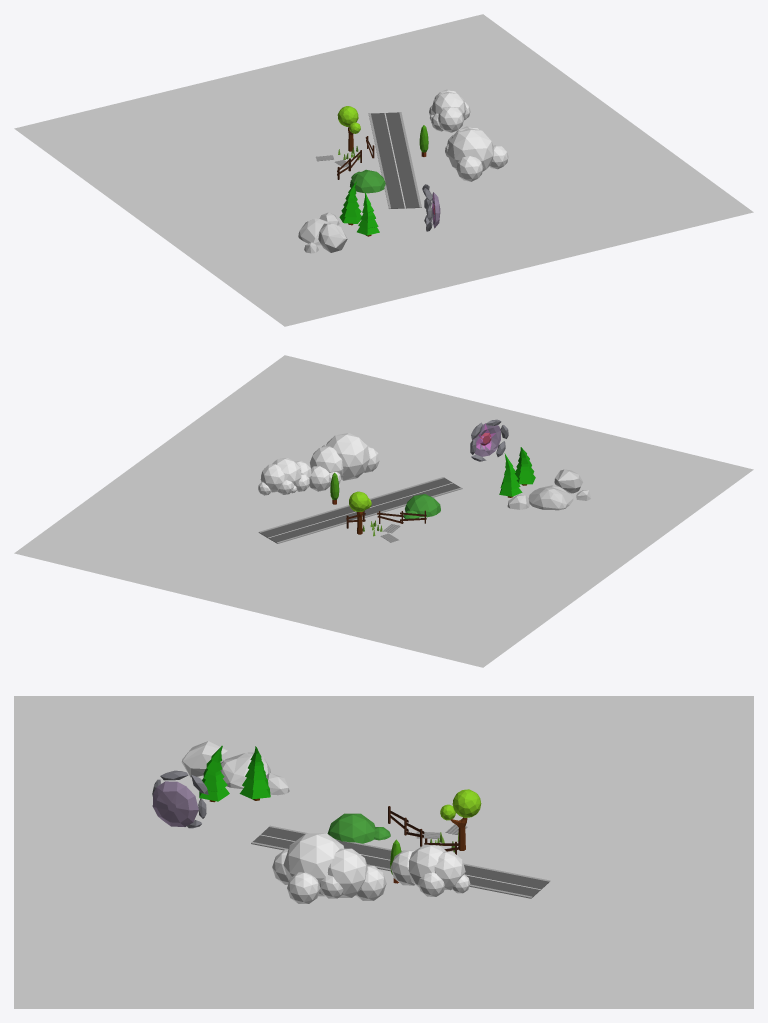
Rendered from ExportedBlenderFBXFile.fbx.
The picture shows the model from 3 angles, top to bottom: view 1: azimuth 30°, elevation 25°; view 2: azimuth 150°, elevation 25°; view 3: azimuth 270°, elevation 25°; orthographic projection. The views are drawn at different scales.
Parts seen in each view (by area): view 1: Plane, Cube_016, Icosphere_016, Sphere_001, Icosphere_025, Cylinder_001, Icosphere_013, Icosphere_003, Icosphere_010, Cylinder; view 2: Plane, Cube_016, Icosphere_016, Sphere, Cylinder_011, Icosphere_017, Icosphere_025, Cylinder_001; view 3: Plane, Cube_016, Icosphere_016, Cylinder_011, Icosphere_017, Icosphere_025, Cylinder_001, Cylinder, Icosphere_010, Sphere, Sphere_001, Icosphere_015 (+4 smaller).
Part boxes in pixels (x1,y1,x2,y2): Plane: (14, 14, 753, 326); Cube_016: (368, 112, 421, 208); Icosphere_016: (447, 128, 493, 171); Sphere_001: (318, 223, 347, 252); Icosphere_025: (350, 169, 385, 193); Cylinder_001: (339, 181, 361, 225); Icosphere_013: (456, 156, 483, 181); Icosphere_003: (438, 106, 463, 132); Icosphere_010: (431, 91, 466, 117); Cylinder: (357, 192, 379, 236); Plane: (14, 355, 753, 667); Cube_016: (258, 477, 462, 543); Icosphere_016: (325, 433, 369, 480); Sphere: (528, 485, 573, 510); Cylinder_011: (472, 423, 500, 456); Icosphere_017: (310, 446, 343, 477); Icosphere_025: (405, 494, 440, 517); Cylinder_001: (499, 453, 522, 497); Plane: (14, 696, 753, 1008); Cube_016: (251, 825, 550, 898); Icosphere_016: (283, 833, 344, 896); Cylinder_011: (152, 781, 198, 826); Icosphere_017: (327, 848, 367, 897); Icosphere_025: (327, 813, 375, 843); Cylinder_001: (239, 746, 270, 800); Cylinder: (199, 745, 229, 802); Icosphere_010: (408, 844, 446, 887); Sphere: (220, 752, 270, 788); Sphere_001: (181, 741, 227, 777); Icosphere_015: (287, 872, 320, 903).
Bounding box in the file's own units: 47.01 × 6.32 × 47.01.
